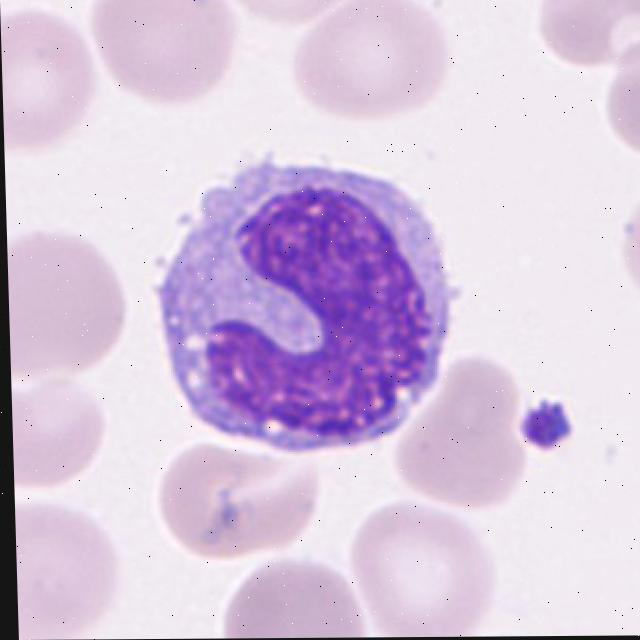monocyte: (163, 149, 456, 460)
platelets: (511, 375, 582, 462)
rbc: (6, 215, 144, 383), (381, 357, 529, 510), (147, 439, 313, 563), (293, 0, 451, 120), (350, 499, 485, 635), (15, 498, 138, 640), (0, 5, 105, 157), (95, 0, 243, 97), (214, 560, 373, 639), (11, 375, 115, 483), (530, 0, 640, 60), (598, 43, 640, 155), (619, 181, 640, 358), (232, 0, 357, 28)
